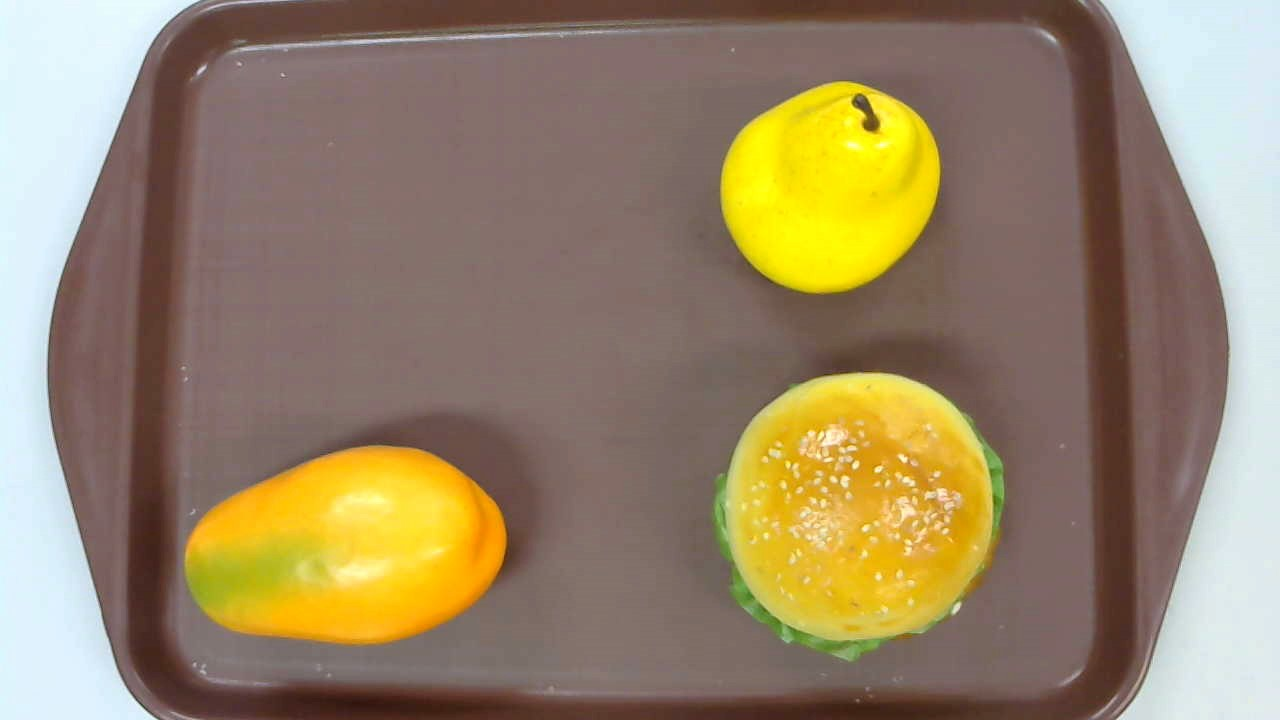hamburger: (713, 372, 1007, 662)
papya: (185, 444, 506, 647)
yellow pear: (719, 81, 939, 295)
